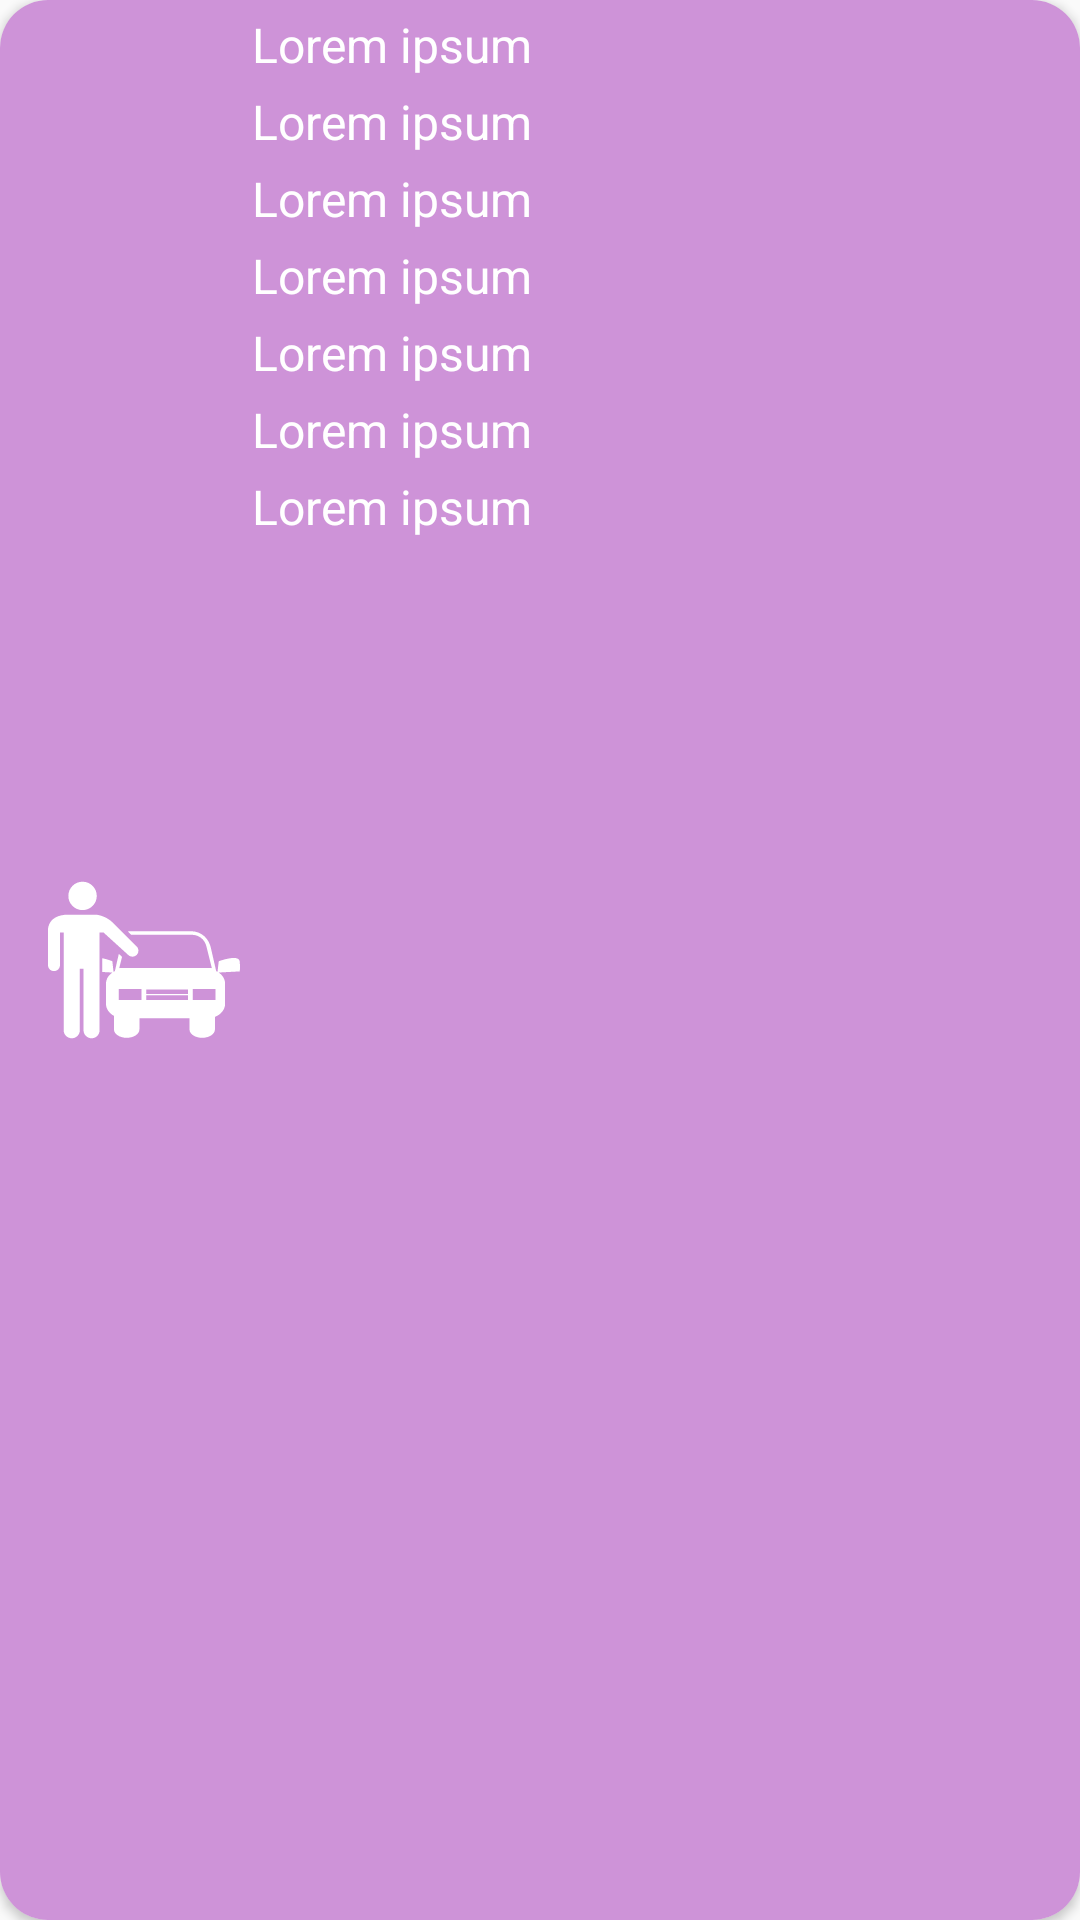

Named icons in this screenshot (1080×1920) and their centers, (x,y):
car owner: (144,960)
